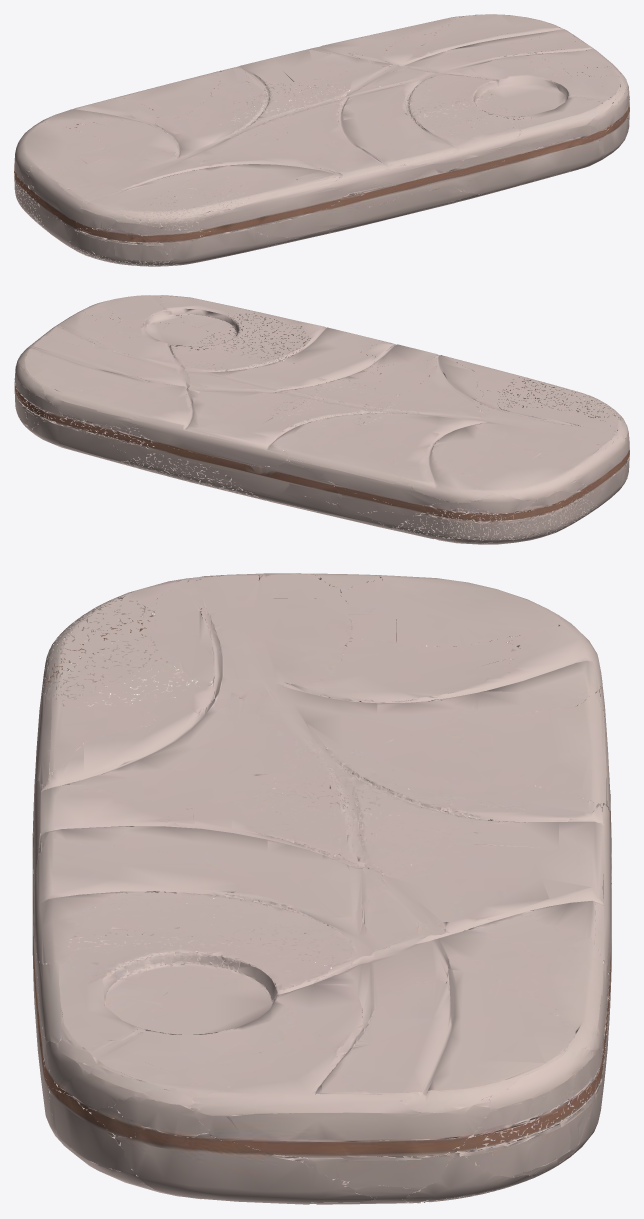
Rendered from data-wafer-b-rose-layout.glb.
The picture shows the model from 3 angles, top to bottom: view 1: azimuth 30°, elevation 25°; view 2: azimuth 150°, elevation 25°; view 3: azimuth 270°, elevation 25°; orthographic projection. The views are drawn at different scales.
Visible parts, largest first — view 1: wafer-b; view 2: wafer-b; view 3: wafer-b.
Boxes of the visible parts, left/top/right/bottom form: wafer-b: left=14, top=14, right=629, bottom=266; wafer-b: left=14, top=295, right=629, bottom=544; wafer-b: left=32, top=573, right=611, bottom=1204.
Bounding box in the file's own units: 2 × 0.2003 × 0.9106.
1 material, 1 textured.
